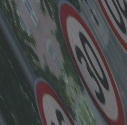Speed limit: (54, 2, 126, 124)
